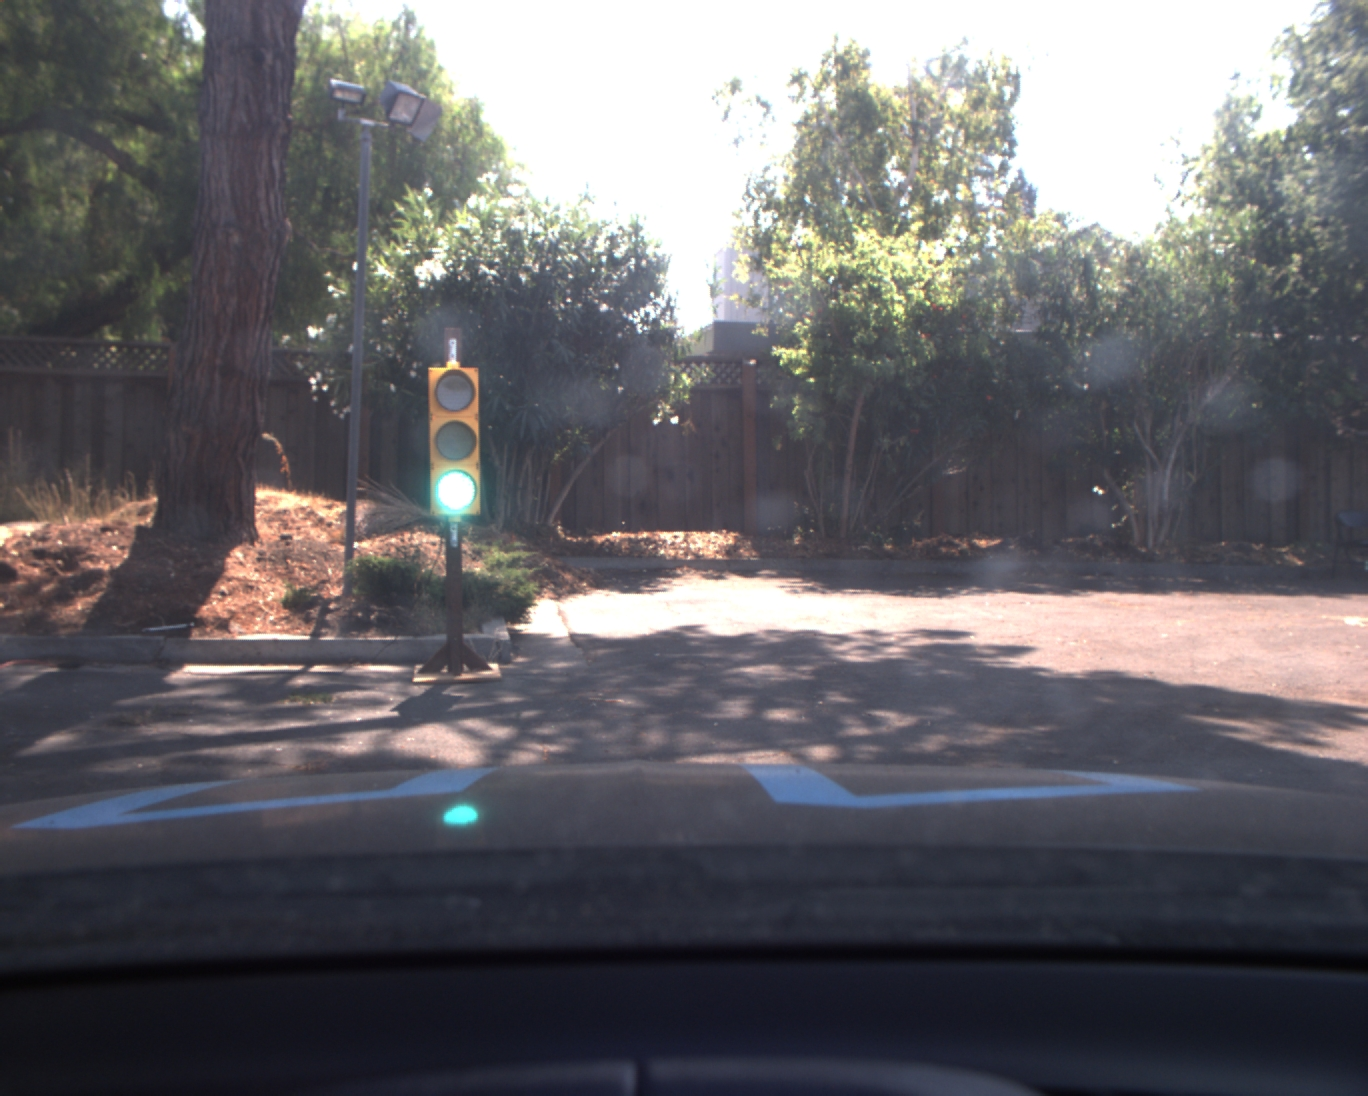green: (427, 369, 484, 514)
